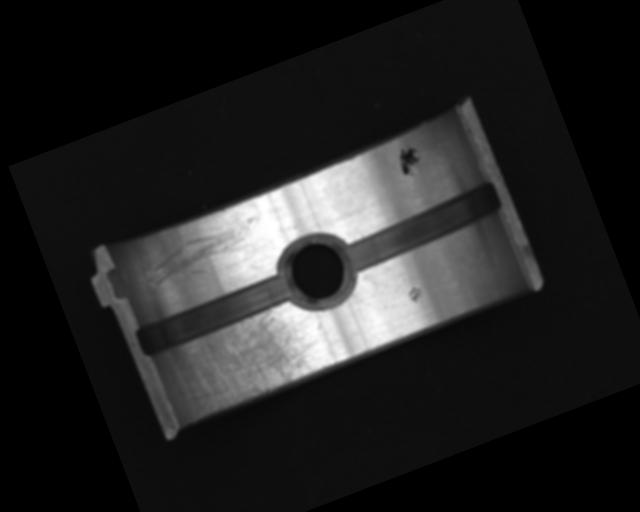blot: (393, 141, 427, 179)
bruise: (404, 283, 427, 306)
gap: (336, 181, 507, 275), (131, 268, 298, 360)
hole: (268, 222, 365, 318)
nick: (144, 212, 270, 291), (350, 285, 382, 320)
scratch: (156, 291, 340, 426)
